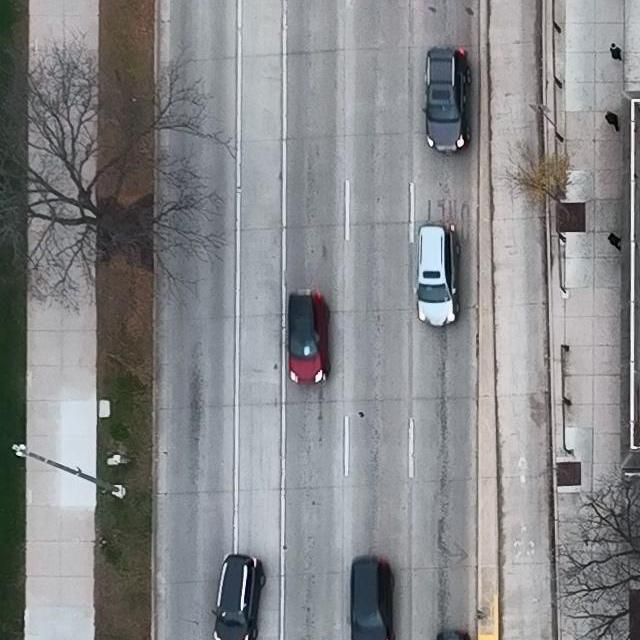car: (420, 46, 473, 156), (211, 554, 266, 640), (415, 225, 461, 327), (285, 292, 332, 384), (348, 556, 395, 640)
